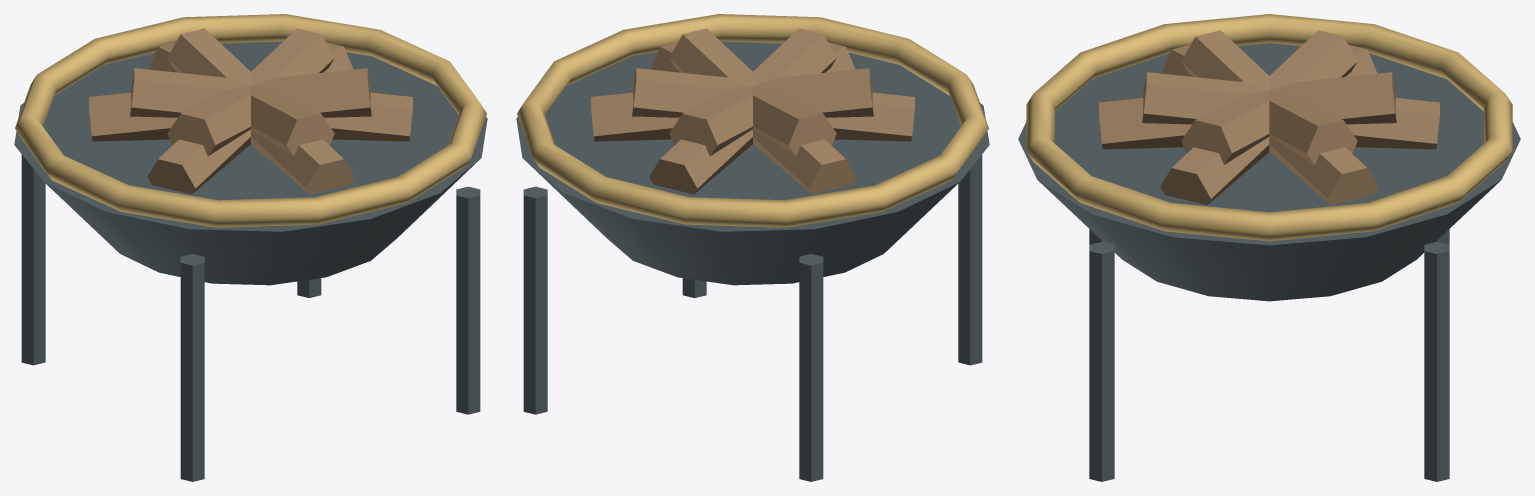
File: castaway-island-escape-signal-fire-brazier-b50f3650__28062.glb
The picture shows the model from 3 angles, left to right: view 1: azimuth 30°, elevation 25°; view 2: azimuth 150°, elevation 25°; view 3: azimuth 270°, elevation 25°; orthographic projection. The views are drawn at different scales.
Parts seen in each view (by area): view 1: signal-fire-brazier-iron, signal-fire-brazier-wood, signal-fire-brazier-brass; view 2: signal-fire-brazier-iron, signal-fire-brazier-wood, signal-fire-brazier-brass; view 3: signal-fire-brazier-iron, signal-fire-brazier-wood, signal-fire-brazier-brass.
Part boxes in pixels (box(x1,y1,x2,y2)): signal-fire-brazier-iron: box(14, 41, 487, 481); signal-fire-brazier-wood: box(89, 28, 412, 194); signal-fire-brazier-brass: box(15, 14, 486, 227); signal-fire-brazier-iron: box(516, 41, 989, 481); signal-fire-brazier-wood: box(591, 28, 914, 194); signal-fire-brazier-brass: box(517, 14, 988, 227); signal-fire-brazier-iron: box(1018, 43, 1520, 481); signal-fire-brazier-wood: box(1099, 30, 1439, 205); signal-fire-brazier-brass: box(1026, 14, 1512, 241).
Size of the model in its own units: 1.2 by 0.8602 by 1.2.
